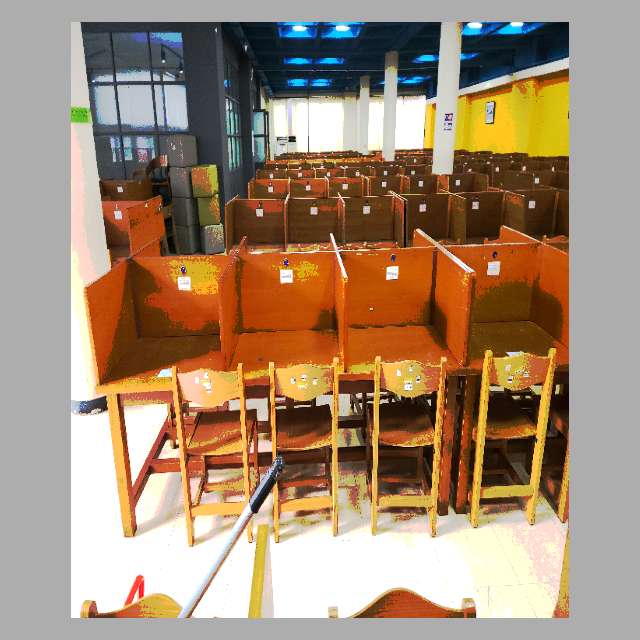empty: (348, 254, 457, 439), (225, 255, 335, 437), (118, 257, 222, 437)
